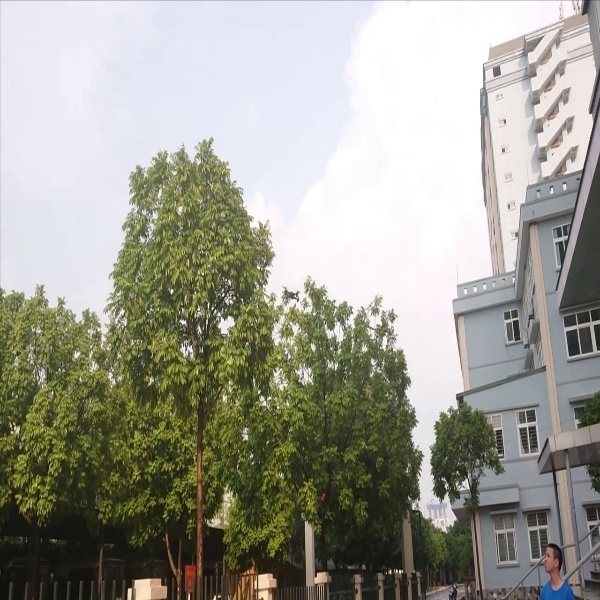drone: (281, 286, 301, 303)
